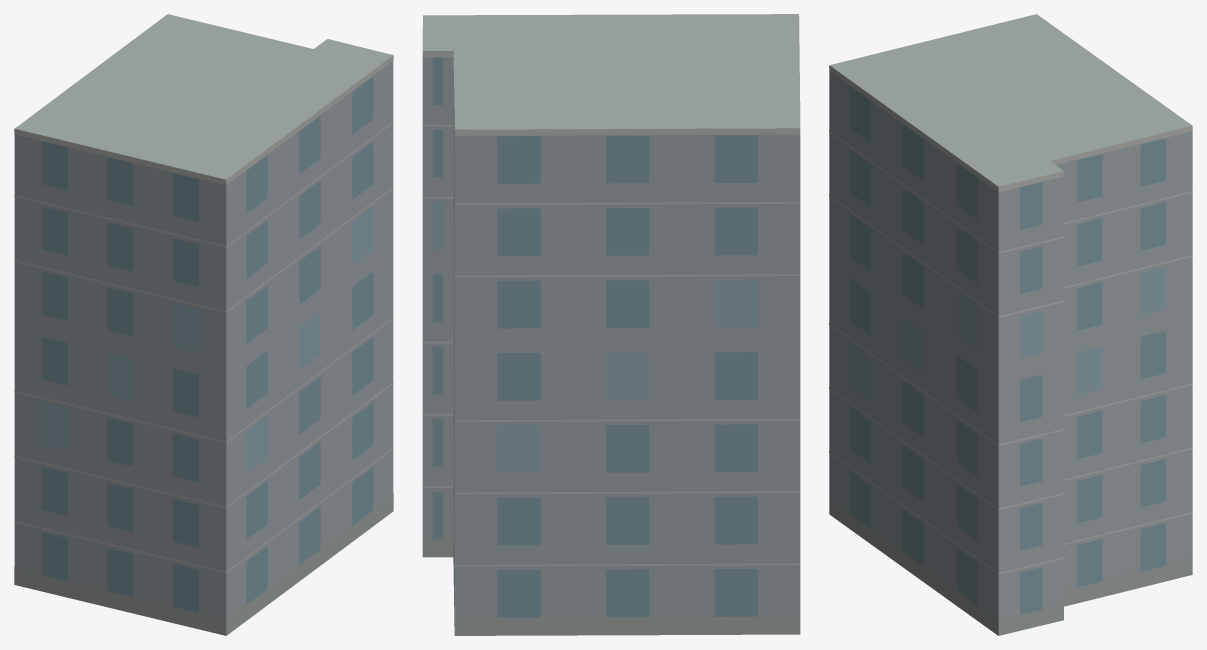
Rendered from survey-upis-32962765.glb.
The picture shows the model from 3 angles, left to right: view 1: azimuth 30°, elevation 25°; view 2: azimuth 150°, elevation 25°; view 3: azimuth 270°, elevation 25°; orthographic projection. The views are drawn at different scales.
Parts seen in each view (by area): view 1: survey-upis-32962765.tmp; view 2: survey-upis-32962765.tmp; view 3: survey-upis-32962765.tmp.
Part boxes in pixels (left/top/right/bottom): survey-upis-32962765.tmp: left=14, top=14, right=393, bottom=635; survey-upis-32962765.tmp: left=422, top=14, right=800, bottom=635; survey-upis-32962765.tmp: left=829, top=14, right=1192, bottom=635.
Size of the model in its own units: 16.44 by 19.9 by 14.61.
